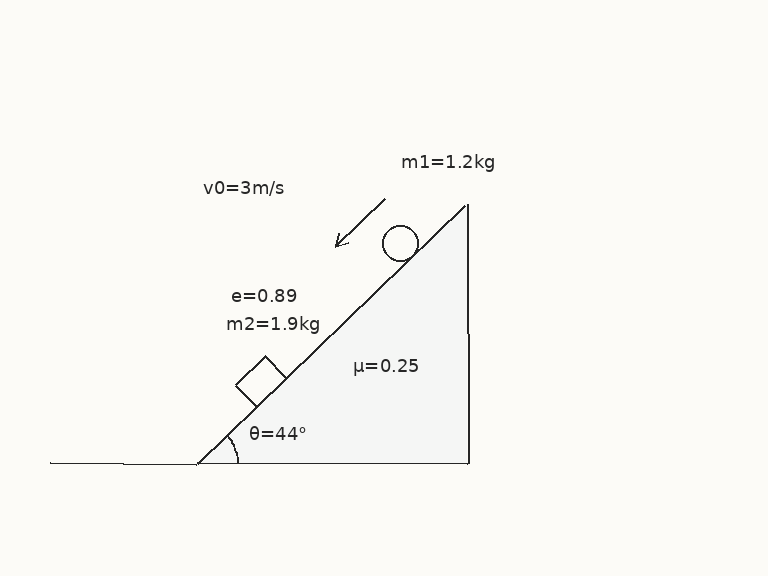ball: (380, 223, 420, 263)
block: (233, 354, 288, 409)
ramp: (196, 202, 468, 465)
